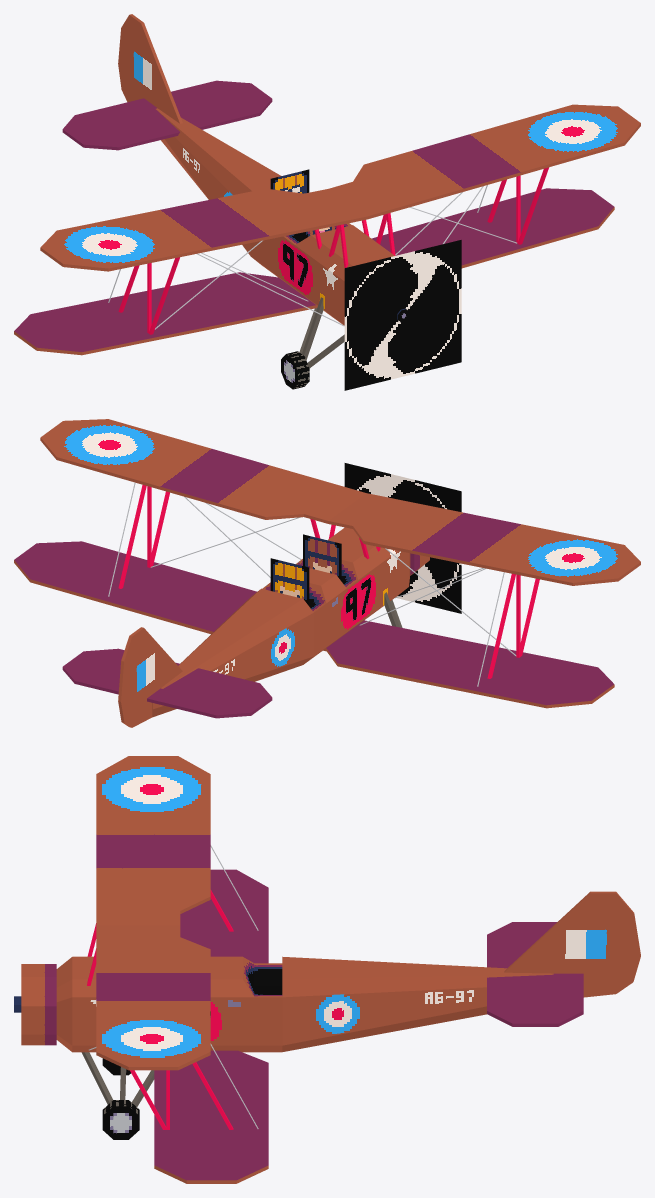
File: airplane.glb
3 renders of one model, top to bottom at view 1: azimuth 30°, elevation 25°; view 2: azimuth 150°, elevation 25°; view 3: azimuth 270°, elevation 25°, orthographic. The views are drawn at different scales.
Visible parts, largest first — view 1: Wing, Propeller_Plane, Body, FinH, FinV, Beam.001, Wheel, Plane.002, Beam.000; view 2: Wing, Body, FinH, Propeller_Plane, FinV, Beam.001, Plane.003, Plane.001, Beam.000, Wire.000; view 3: Wing, Body, FinV, FinH, Motor, Wheel, Beam.001.
Part boxes in pixels (x1,y1,x2,y2): Wing: (14, 104, 640, 355); Propeller_Plane: (344, 240, 461, 390); Body: (156, 108, 394, 325); FinH: (62, 80, 272, 150); FinV: (118, 14, 182, 123); Beam.001: (118, 167, 548, 334); Wheel: (281, 351, 309, 389); Plane.002: (270, 169, 309, 193); Beam.000: (147, 175, 520, 333); Wing: (14, 419, 640, 708); Body: (152, 527, 410, 717); FinH: (62, 648, 272, 718); Propeller_Plane: (344, 463, 461, 613); FinV: (118, 627, 182, 727); Beam.001: (118, 485, 539, 678); Plane.003: (270, 558, 309, 605); Plane.001: (303, 534, 341, 581); Beam.000: (147, 486, 520, 657); Wire.000: (150, 517, 516, 656); Wing: (96, 756, 268, 1183); Body: (56, 956, 553, 1052); FinV: (504, 891, 640, 997); FinH: (487, 922, 583, 1026); Motor: (21, 964, 56, 1045); Wheel: (102, 1058, 139, 1139); Beam.001: (130, 890, 233, 1129).
Bounding box in the file's own units: 986 × 313 × 840.
Materials: 1 (1 with a texture image).
